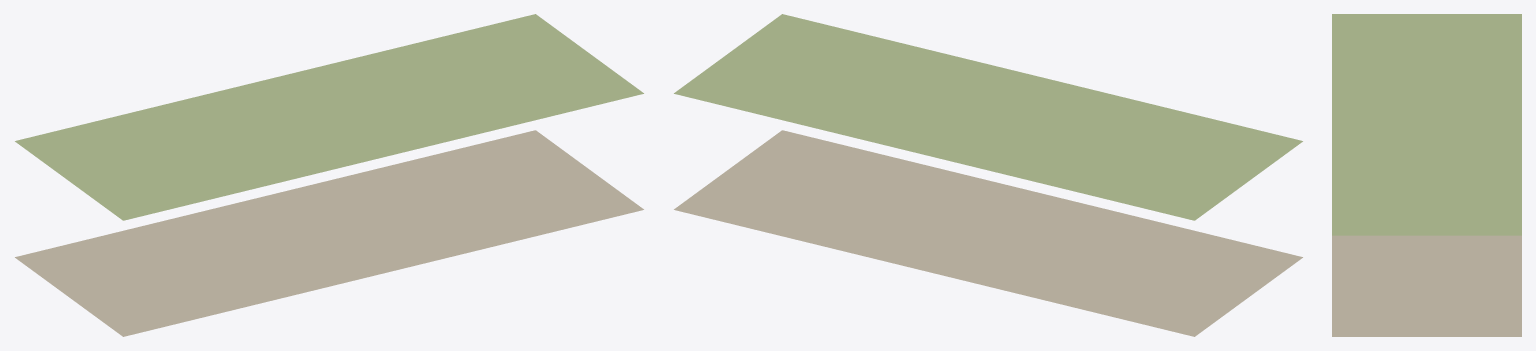
The picture shows the model from 3 angles, left to right: view 1: azimuth 30°, elevation 25°; view 2: azimuth 150°, elevation 25°; view 3: azimuth 270°, elevation 25°; orthographic projection. The views are drawn at different scales.
Visible parts, largest first — view 1: s_-13_7__soil, s_-13_7__grass; view 2: s_-13_7__soil, s_-13_7__grass; view 3: s_-13_7__grass, s_-13_7__soil.
Boxes of the visible parts, bbox=[...] form: s_-13_7__soil: bbox=[15, 130, 643, 336]; s_-13_7__grass: bbox=[15, 14, 643, 220]; s_-13_7__soil: bbox=[674, 130, 1302, 336]; s_-13_7__grass: bbox=[674, 14, 1302, 220]; s_-13_7__grass: bbox=[1332, 14, 1521, 235]; s_-13_7__soil: bbox=[1332, 235, 1521, 336].
Bounding box in the file's own units: 94 × 20.01 × 34.
